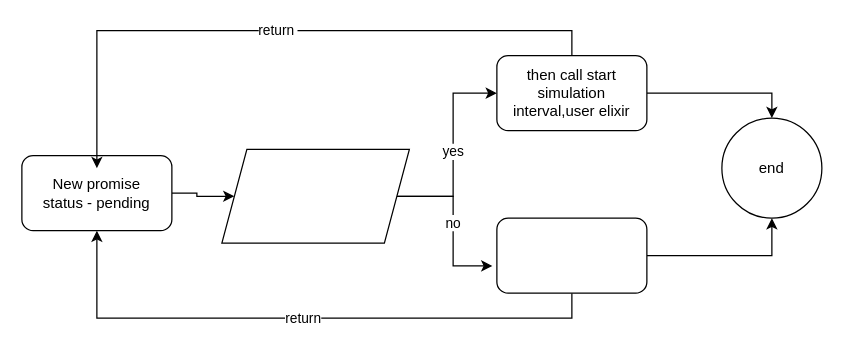
This 844x350 diagram has some shape labels left out. Here are the shapes that lost their labels. From the top down, the centre of each, then its label:
At (315,195): "populate the default pop,truck,tower,vehicles".
At (571,255): "catch handling".
